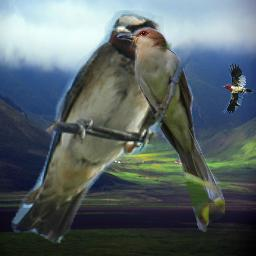Cuckoo: (117, 27, 225, 232)
Swallow: (10, 10, 173, 243)
Woodpecker: (222, 63, 255, 114)
